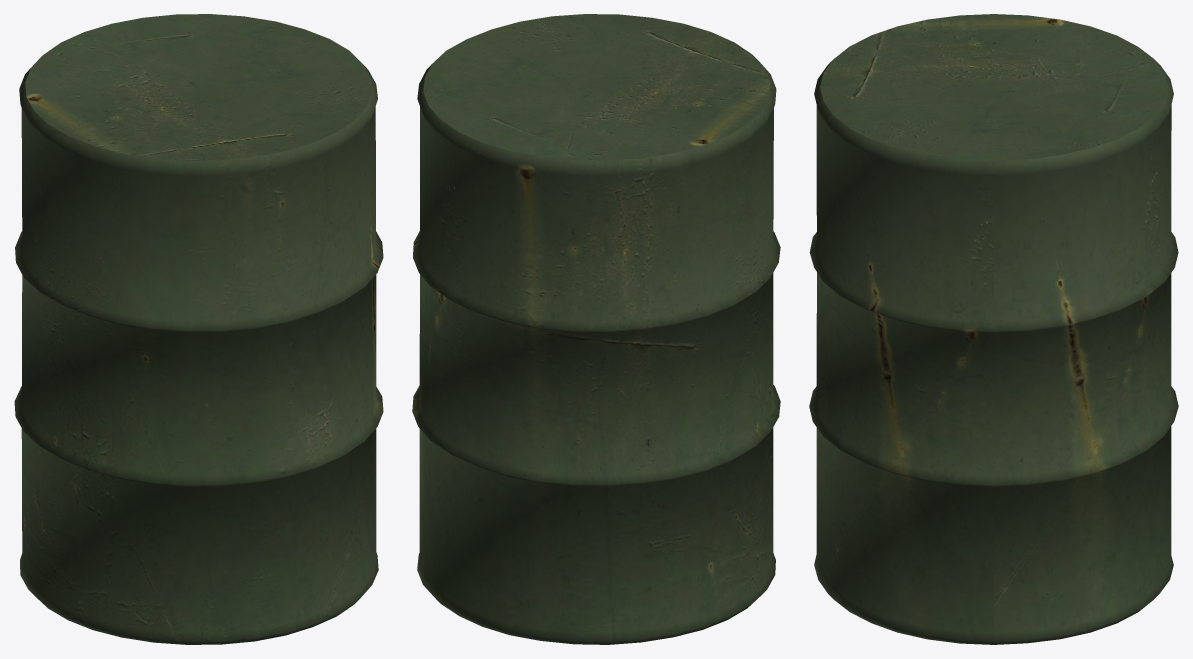
Rendered from varil_yesil.gltf.
The picture shows the model from 3 angles, left to right: view 1: azimuth 30°, elevation 25°; view 2: azimuth 150°, elevation 25°; view 3: azimuth 270°, elevation 25°; orthographic projection.
Visible parts, largest first — view 1: varil_yesil; view 2: varil_yesil; view 3: varil_yesil.
Part boxes in pixels (left/top/right/bottom): varil_yesil: left=14, top=14, right=383, bottom=644; varil_yesil: left=412, top=14, right=780, bottom=644; varil_yesil: left=809, top=14, right=1178, bottom=644.
Size of what is drawn, in the model's own units: 0.6086 by 0.88 by 0.6089.
Materials: 1 (1 with a texture image).
